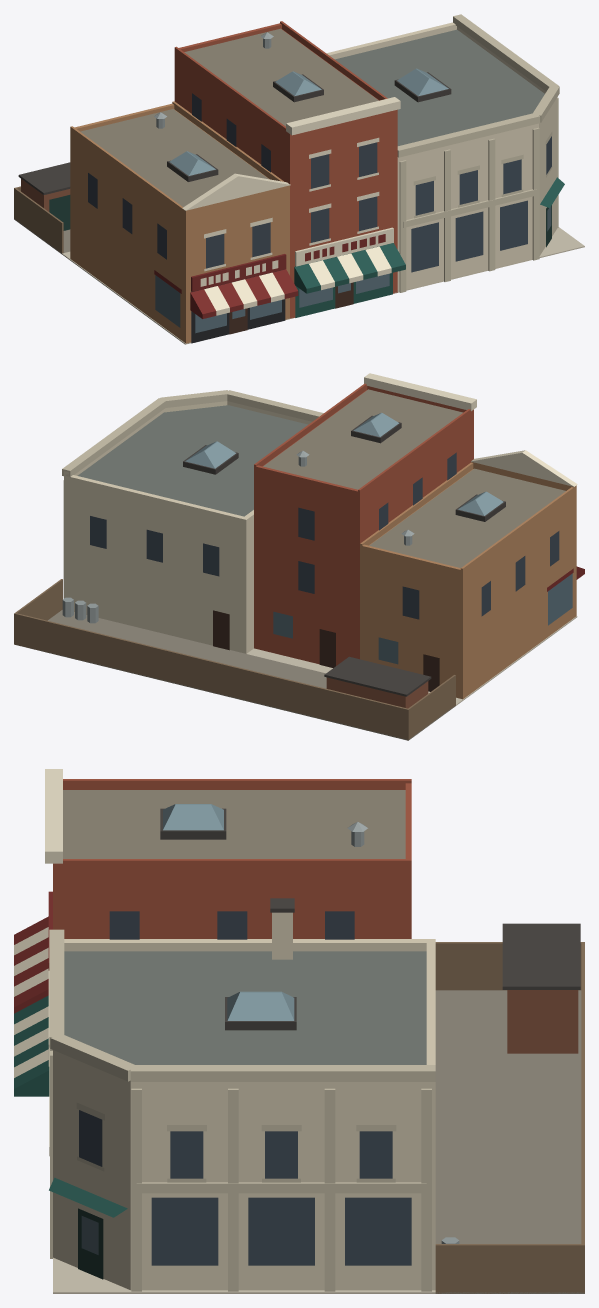
The model's file is highstreet_wn.glb.
3 views of the same model, one above another, from view 1: azimuth 30°, elevation 25°; view 2: azimuth 150°, elevation 25°; view 3: azimuth 270°, elevation 25° (orthographic). The views are drawn at different scales.
Parts seen in each view (by area): view 1: highstreet_wn; view 2: highstreet_wn; view 3: highstreet_wn.
Part boxes in pixels (x1=…): highstreet_wn: x1=14, y1=14, x2=584, y2=344; highstreet_wn: x1=14, y1=373, x2=584, y2=740; highstreet_wn: x1=14, y1=769, x2=584, y2=1293.
Bounding box in the file's own units: 18 × 8.49 × 14.33.
